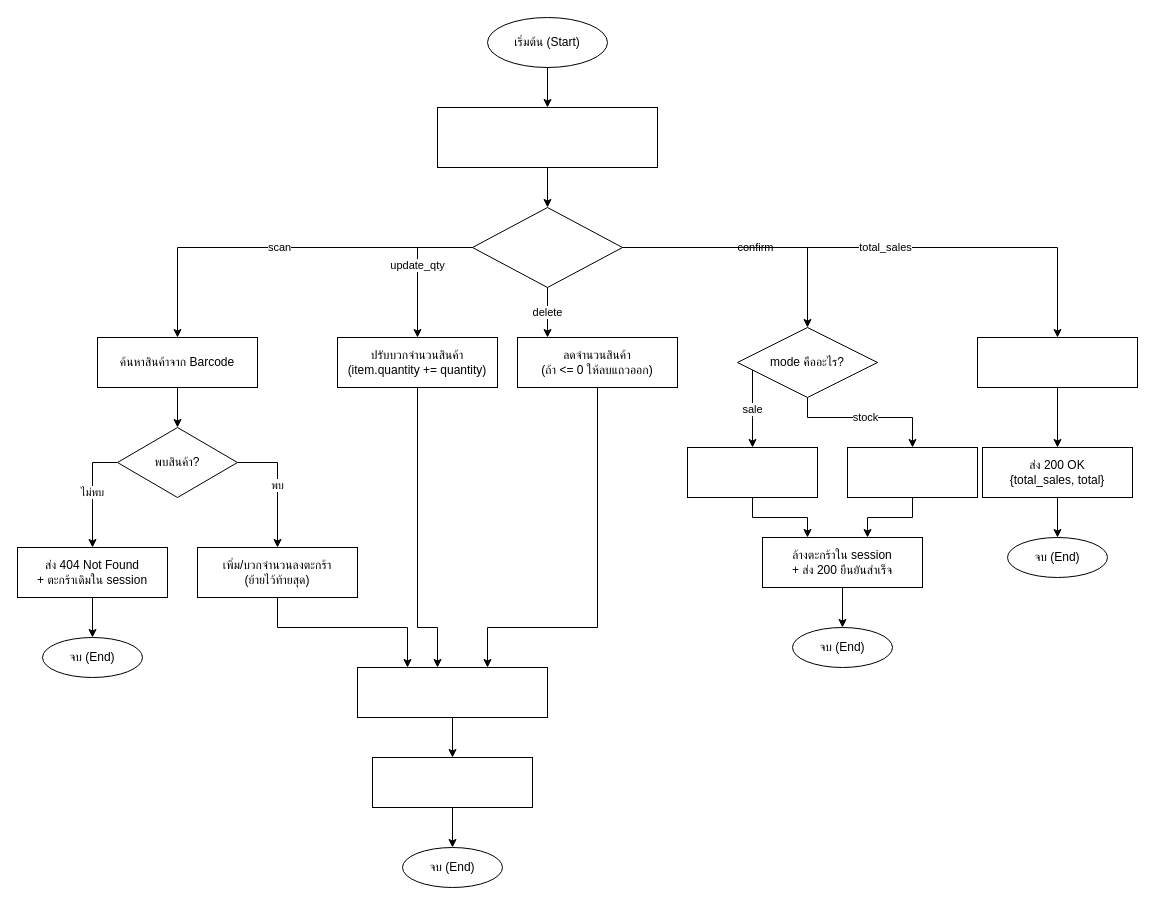
Image size: 1155x905. Some labels were removed from this diagram. The shapes that lost their labels are listed below. From the top down, each one's centre as x and y in pixels, then its label:
At point 547,137: "รับ Request จาก ESP32 (action, mode, barcode, quantity)".
At point 547,247: "action คืออะไร?".
At point 1057,362: "ดึงยอดขายสำเร็จของวันนี้ จากตาราง orders".
At point 752,472: "ตัดสต็อกในคลัง + สร้างบิล Order".
At point 912,472: "เพิ่มสต็อกสินค้า + บันทึก log รับเข้า".
At point 452,692: "คำนวณยอดรวมตะกร้าใหม่ (total, total_items, subtotal)".
At point 452,782: "ส่ง 200 OK พร้อมข้อมูลตะกร้าล่าสุด".
